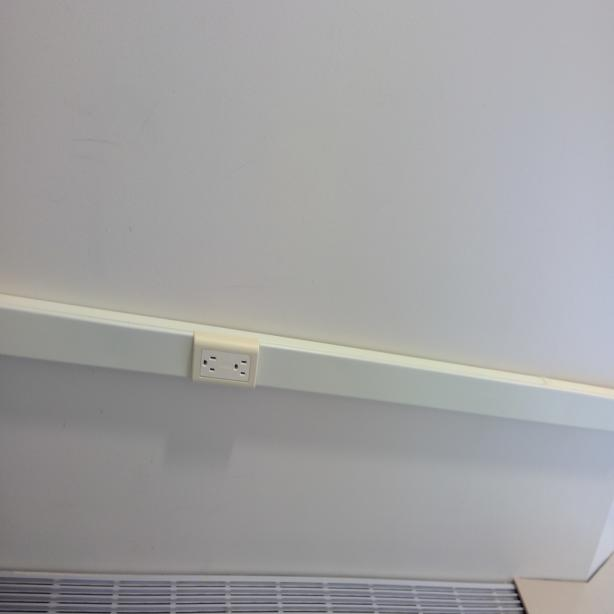typeb: (230, 352, 249, 383), (200, 350, 220, 379)
